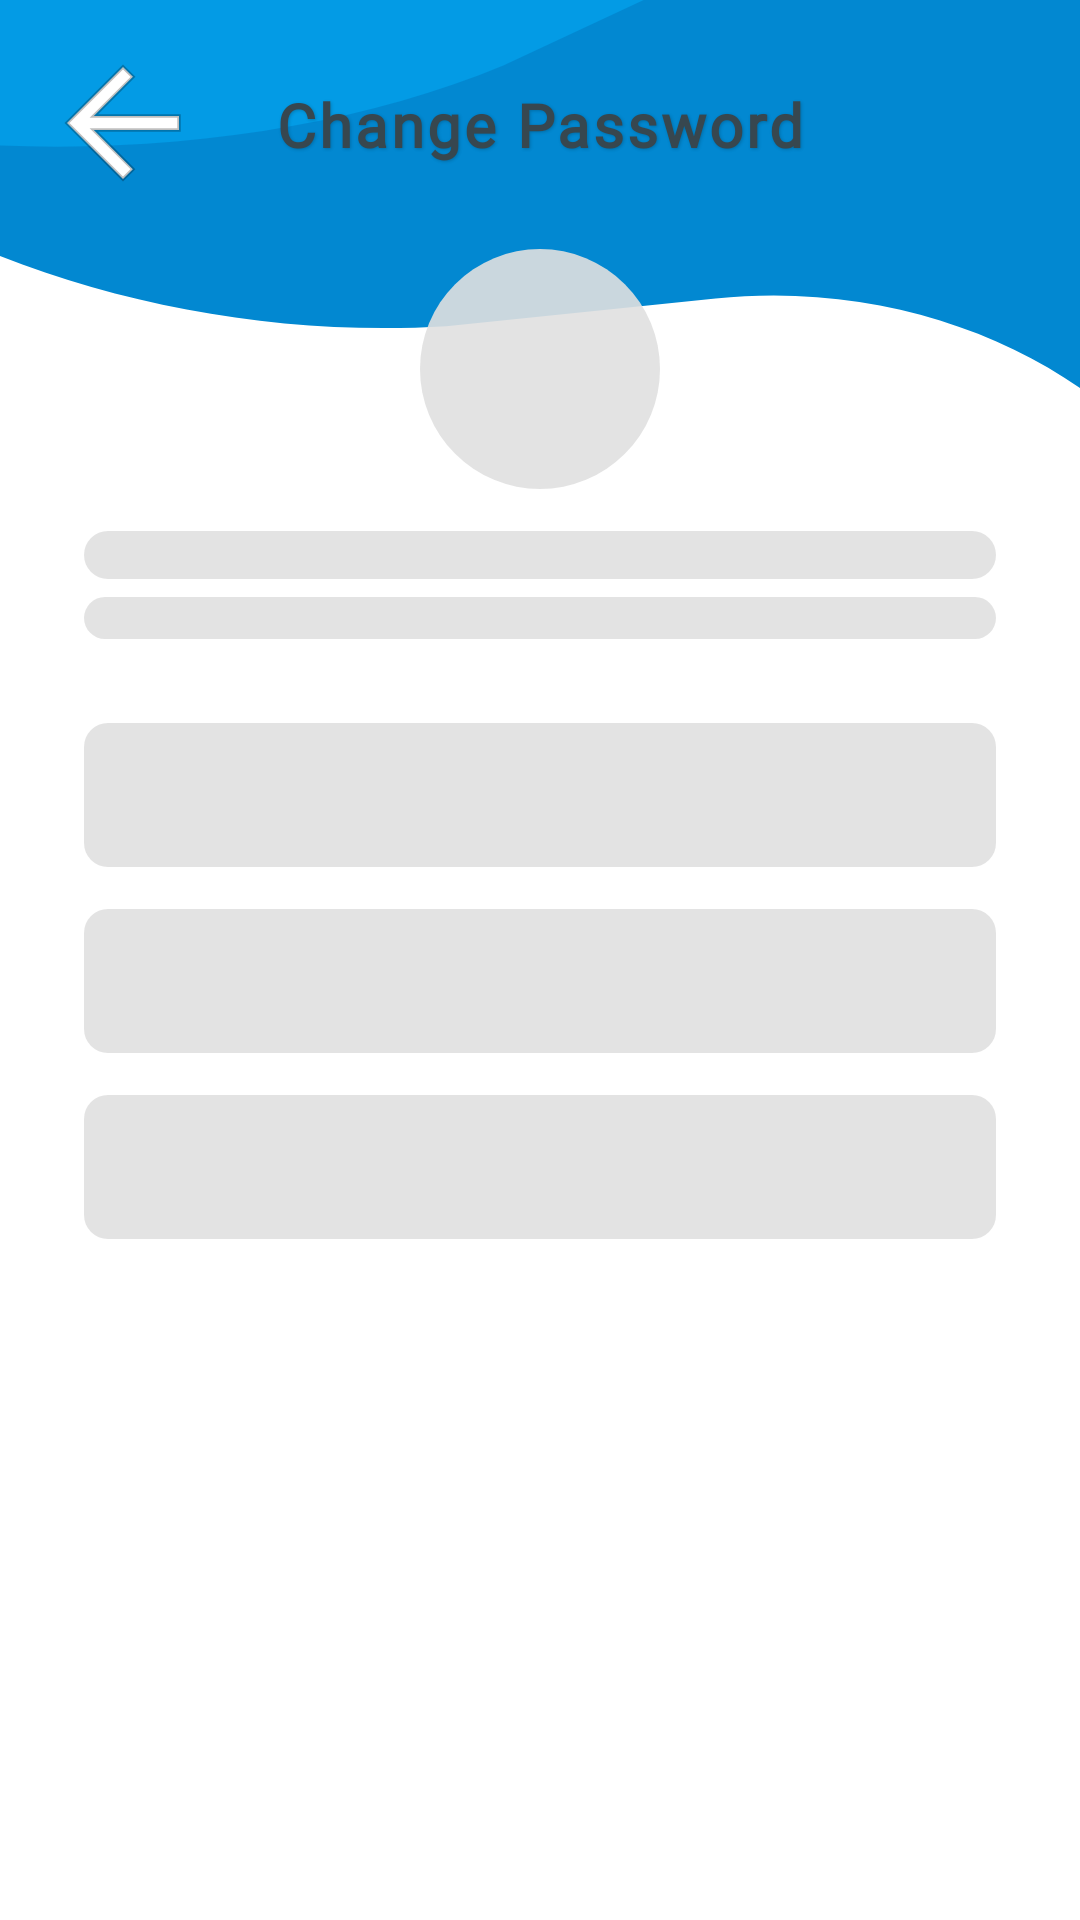

Icons on this 1080x1920 Android screen, each with its box as bbox=(x1, y1, x2, y2):
Back: bbox=(65, 65, 181, 182)
